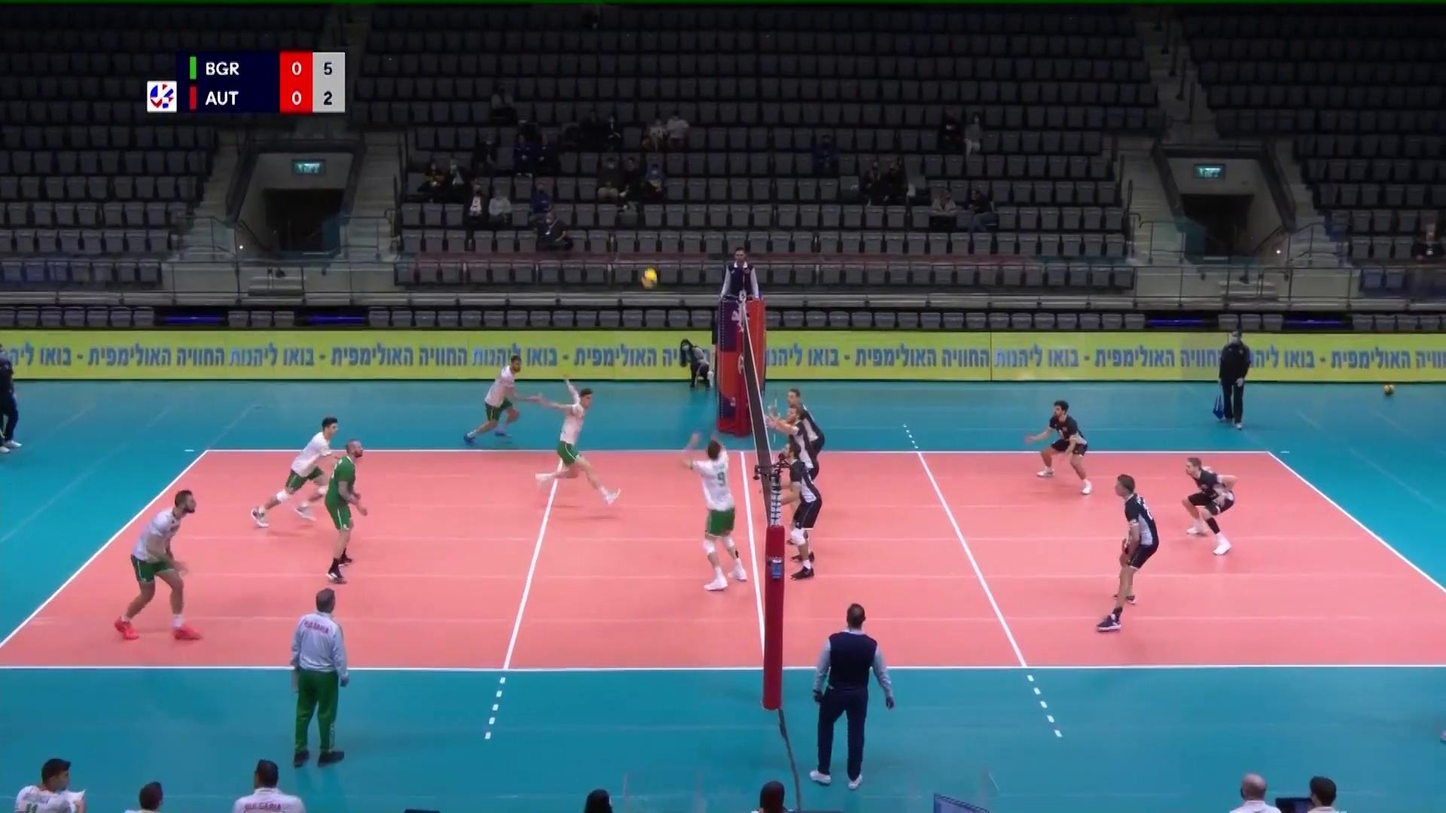ball: (641, 266, 657, 288)
